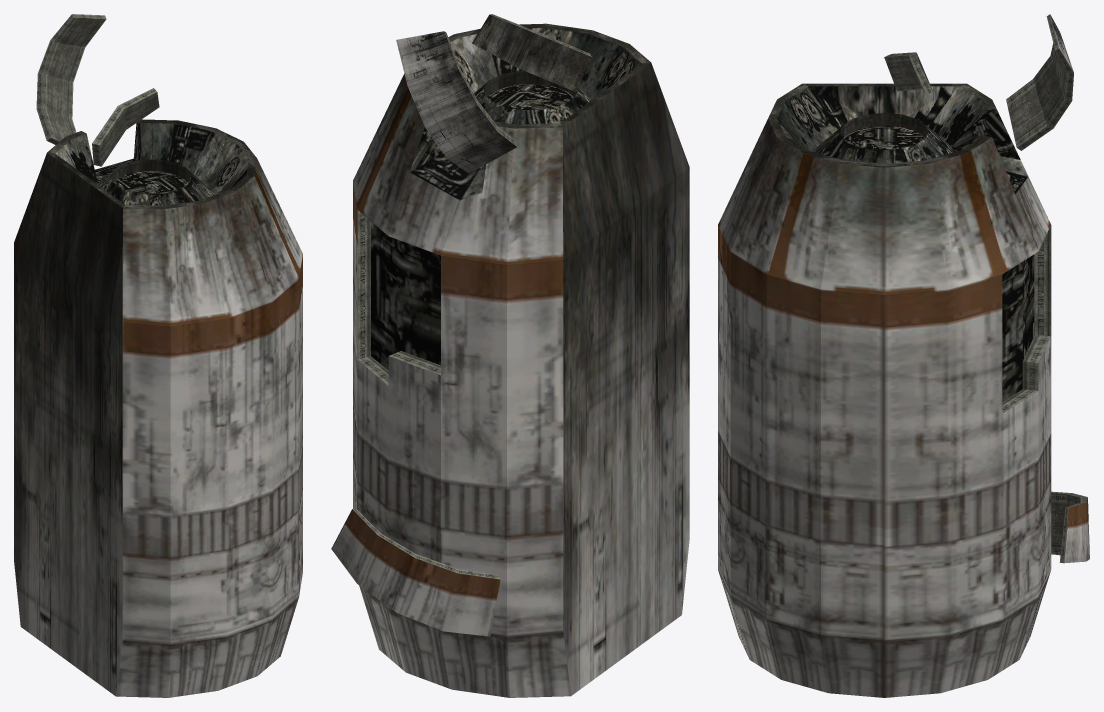
The model's file is thm_tato_lucky_despot_debris_lg_engine_s02_l0.fbx.
3 renders of one model, left to right at view 1: azimuth 30°, elevation 25°; view 2: azimuth 150°, elevation 25°; view 3: azimuth 270°, elevation 25°, orthographic. The views are drawn at different scales.
Visible parts, largest first — view 1: mesh_node; view 2: mesh_node; view 3: mesh_node.
Part boxes in pixels (x1,y1,x2,y2): mesh_node: [14, 14, 302, 697]; mesh_node: [331, 14, 689, 697]; mesh_node: [718, 14, 1089, 697].
Size of the model in its own units: 18.42 by 46.77 by 25.39.
